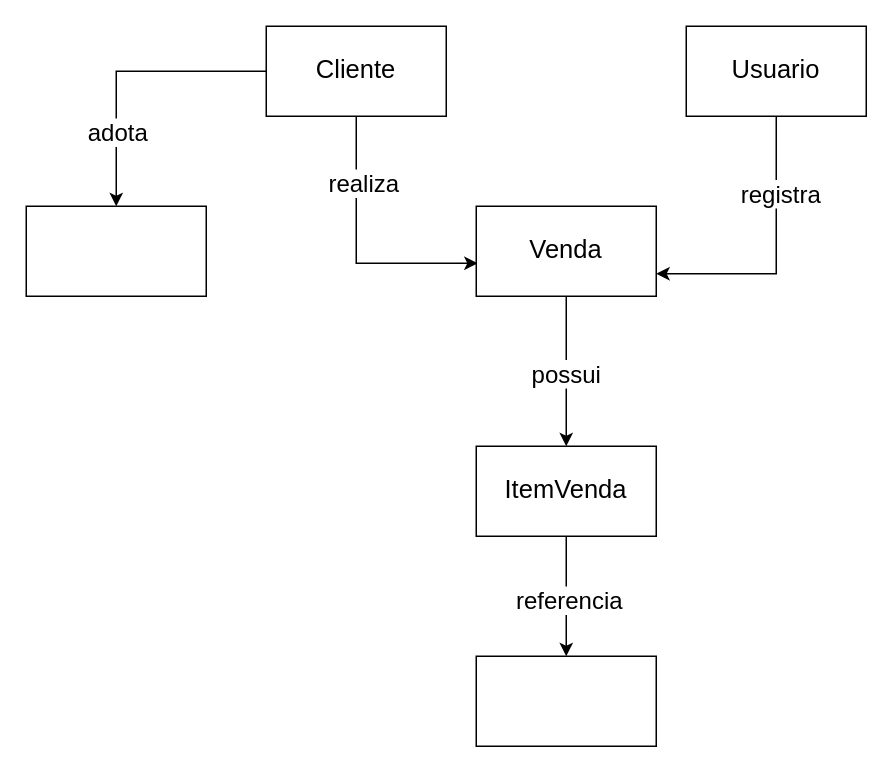
Image size: 893x773. Some labels were removed from this diagram. Each missing label, with the box of its shape:
Pet: (25, 205, 206, 296)
Produto: (475, 655, 656, 746)
